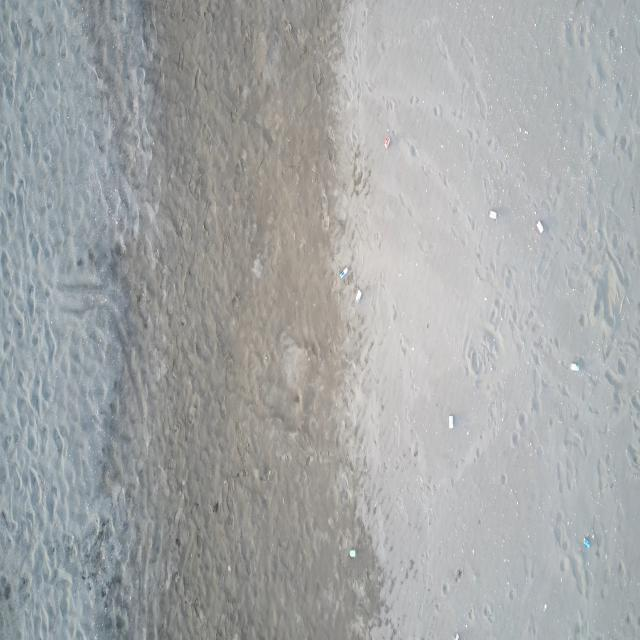tin-and-aluminum-cans: (338, 267, 350, 279), (354, 288, 363, 304), (535, 220, 545, 234), (583, 536, 591, 550), (488, 209, 498, 220), (448, 414, 454, 431), (570, 362, 580, 372), (349, 548, 356, 559), (452, 633, 460, 640), (386, 136, 390, 148)
